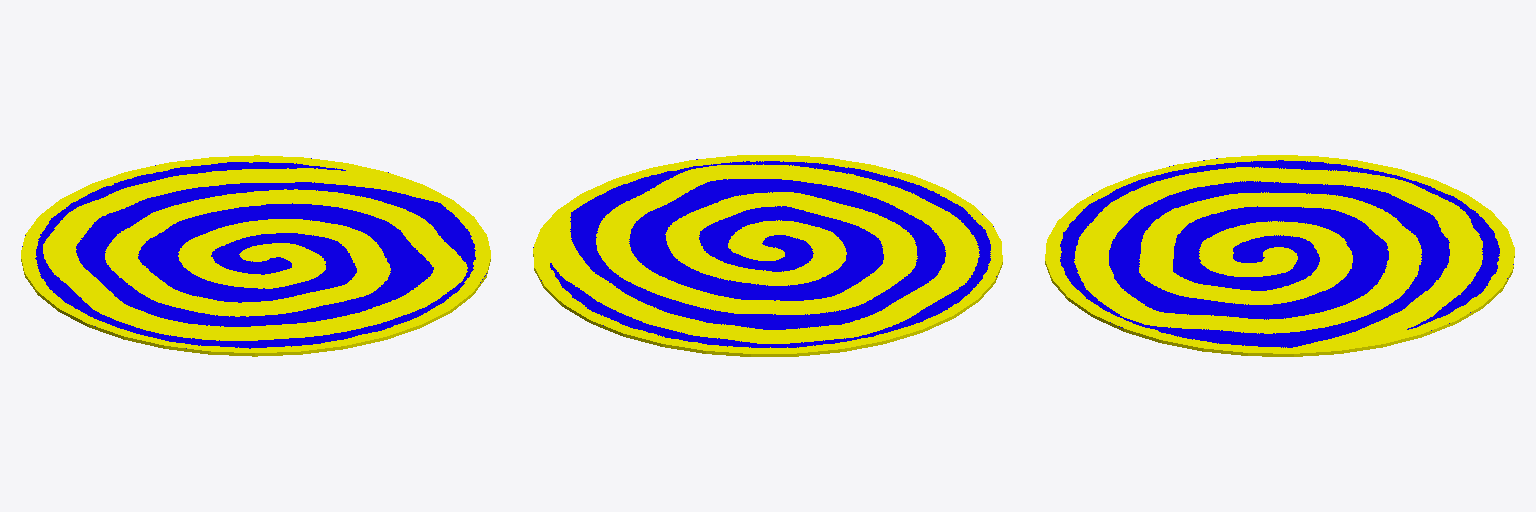
3 renders of one model, left to right at view 1: azimuth 30°, elevation 25°; view 2: azimuth 150°, elevation 25°; view 3: azimuth 270°, elevation 25°, orthographic.
Parts seen in each view (by area): view 1: 円錐; view 2: 円錐; view 3: 円錐.
Boxes of the visible parts, x1,y1,x2,y2 form: 円錐: [21, 155, 490, 356]; 円錐: [533, 155, 1002, 356]; 円錐: [1045, 155, 1514, 356].
Bounding box in the file's own units: 12.07 × 0.1213 × 12.07.
Materials: 1 (1 with a texture image).